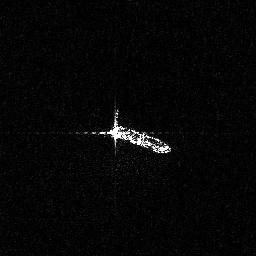ship: (62, 103, 172, 160)
